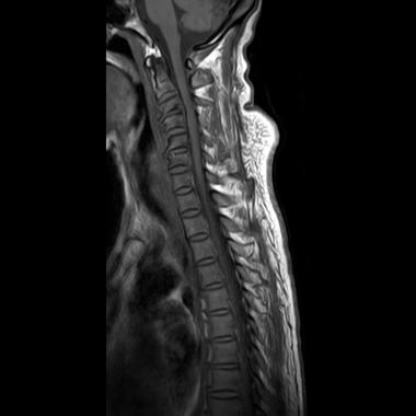Disc Protrusionrotation: (159, 109, 185, 124)
